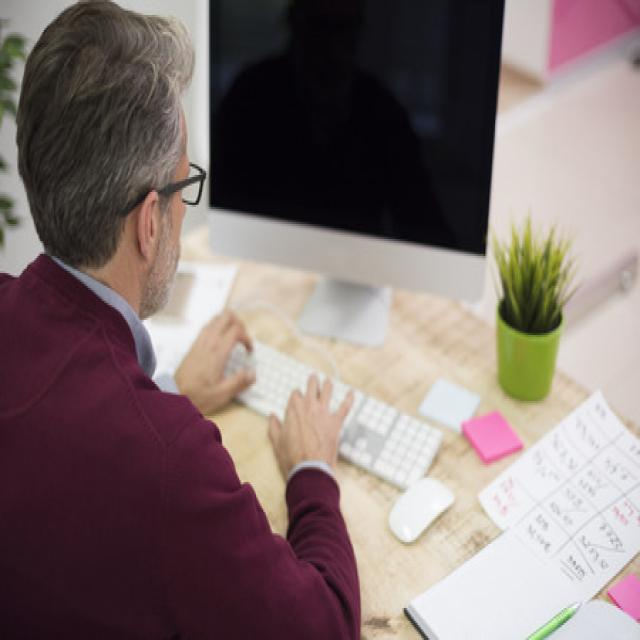desktop-person: (0, 0, 508, 640)
